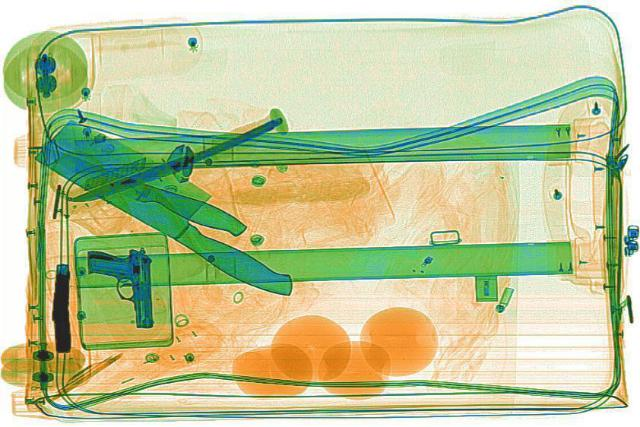Gun: (84, 245, 154, 329), (44, 259, 74, 352)
Knife: (10, 117, 342, 296), (63, 115, 291, 209), (32, 141, 254, 236)
